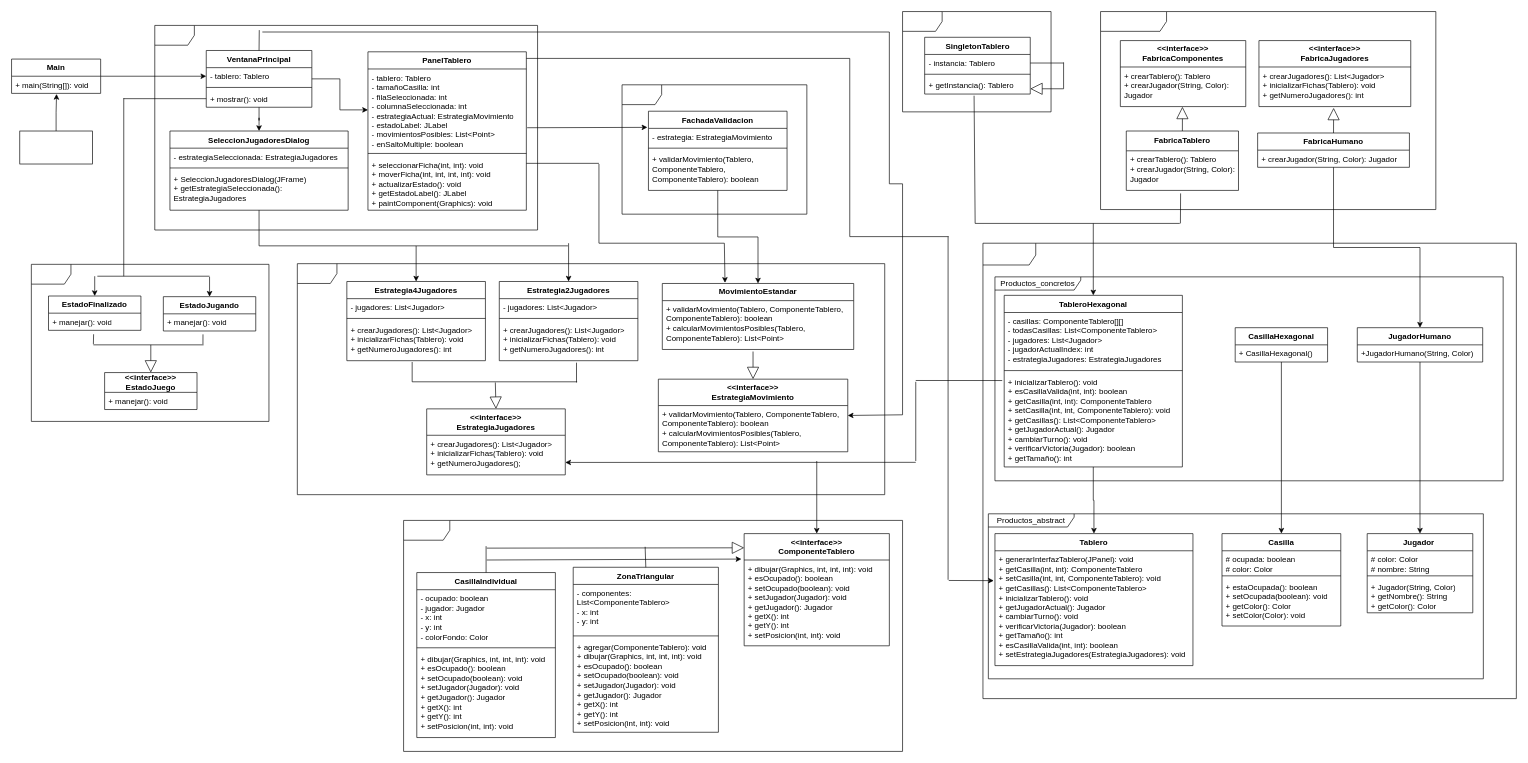
This 1528x763 diagram has some shape labels left out. The centre of each missing label's shape, as x and y in pixels:
abstract_factory: the point at 1268,110
C omposite: the point at 653,635
Cliente: the point at 55,147
facade: the point at 714,149
Productos: the point at 1249,471
S ingleton: the point at 976,61
State: the point at 150,342
strategy: the point at 591,379
view: the point at 346,127
